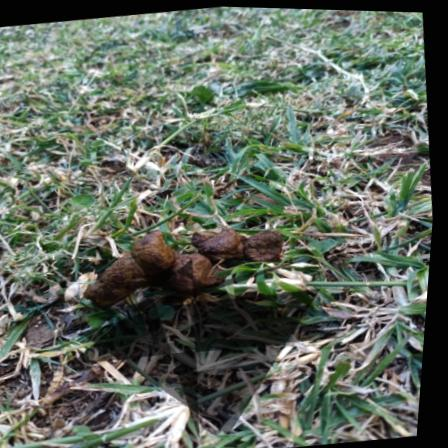dog-poop: (91, 211, 291, 314)
